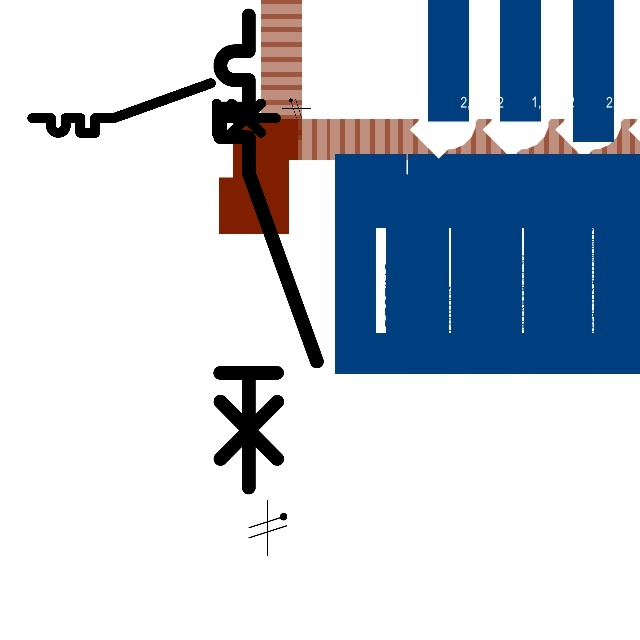interruptor_termomagnetico: (208, 3, 329, 500), (26, 77, 282, 139)
